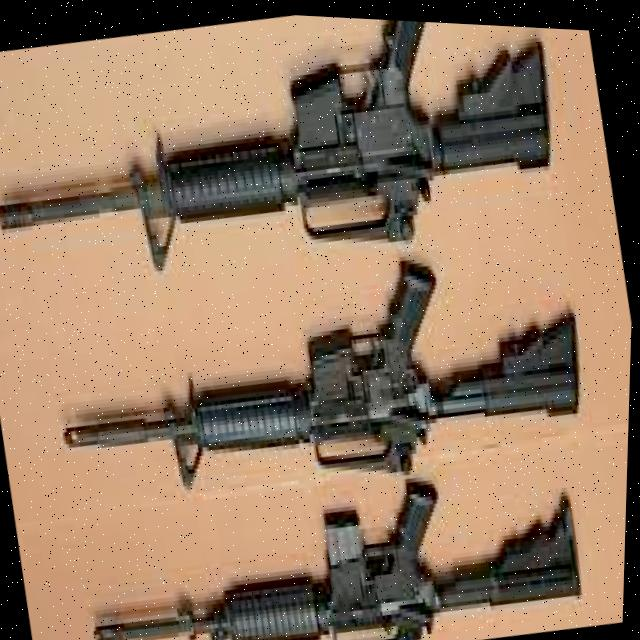firearm: (0, 0, 576, 319), (40, 213, 602, 536), (81, 441, 596, 640)
